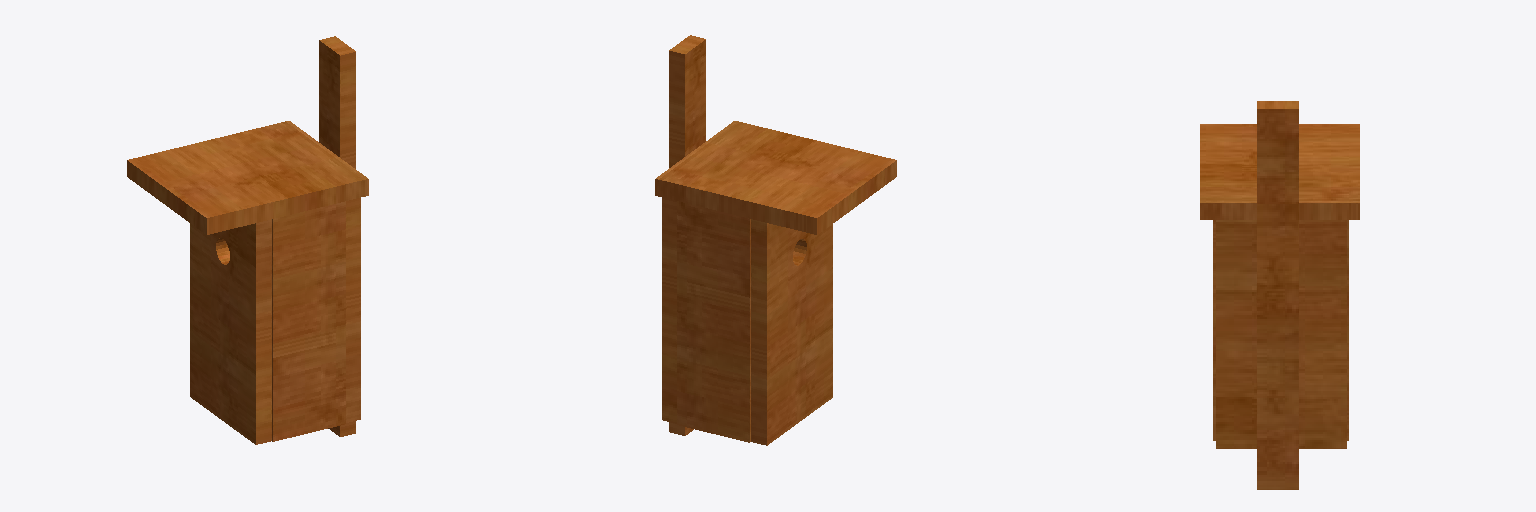
3 renders of one model, left to right at view 1: azimuth 30°, elevation 25°; view 2: azimuth 150°, elevation 25°; view 3: azimuth 270°, elevation 25°, orthographic.
Visible parts, largest first — view 1: Mesh1 Deksel Model, Mesh2 Deur Model, Mesh5 Voorkant Model, Mesh6 Achterplank Model, Mesh4 Achterkant Model; view 2: Mesh1 Deksel Model, Mesh3 Zijkant Model, Mesh5 Voorkant Model, Mesh6 Achterplank Model, Mesh4 Achterkant Model; view 3: Mesh4 Achterkant Model, Mesh6 Achterplank Model, Mesh1 Deksel Model, Mesh2 Deur Model.
Part boxes in pixels (left/top/right/bottom): Mesh1 Deksel Model: left=127, top=121, right=368, bottom=234; Mesh2 Deur Model: left=272, top=201, right=345, bottom=441; Mesh5 Voorkant Model: left=190, top=219, right=271, bottom=444; Mesh6 Achterplank Model: left=319, top=36, right=355, bottom=436; Mesh4 Achterkant Model: left=346, top=198, right=360, bottom=422; Mesh1 Deksel Model: left=655, top=121, right=896, bottom=234; Mesh3 Zijkant Model: left=677, top=201, right=750, bottom=442; Mesh5 Voorkant Model: left=751, top=219, right=832, bottom=445; Mesh6 Achterplank Model: left=669, top=35, right=705, bottom=435; Mesh4 Achterkant Model: left=662, top=197, right=676, bottom=423; Mesh4 Achterkant Model: left=1216, top=220, right=1346, bottom=448; Mesh6 Achterplank Model: left=1257, top=101, right=1298, bottom=489; Mesh1 Deksel Model: left=1200, top=124, right=1359, bottom=219; Mesh2 Deur Model: left=1213, top=220, right=1215, bottom=440.
Bounding box in the file's own units: 220 × 450 × 170.
Materials: 1 (1 with a texture image).